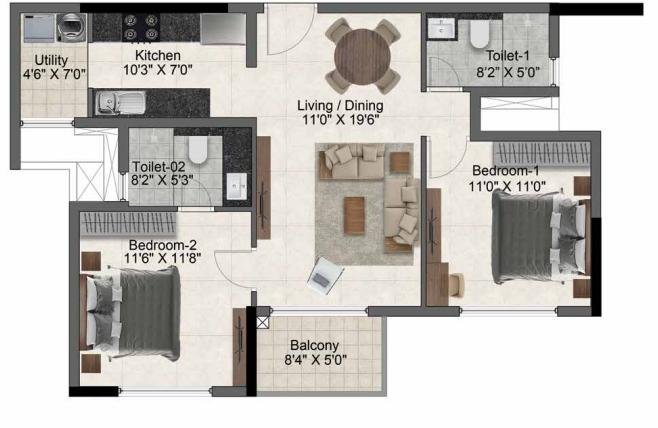Balcony: (256, 314, 381, 393)
Bed: (77, 270, 183, 358), (495, 192, 586, 280)
Bedroom: (77, 210, 248, 389), (430, 136, 591, 308)
Dining Room: (261, 17, 419, 143)
Dining table: (317, 18, 403, 94)
Kitchen: (85, 3, 244, 122)
Living Room: (257, 132, 426, 311)
Sofa: (317, 145, 384, 182), (386, 179, 420, 243)
Wardrobe: (79, 212, 175, 238), (491, 141, 589, 166)
attachBedroom: (125, 129, 228, 365)
commode: (469, 19, 491, 49), (189, 137, 208, 163)
door: (266, 9, 318, 56), (212, 249, 258, 291), (429, 137, 469, 180), (430, 56, 462, 89), (180, 175, 212, 208)
fridge: (201, 13, 245, 45)
kitchen-slab: (88, 87, 211, 117), (86, 12, 200, 43)
sink: (92, 89, 145, 114), (428, 17, 456, 38), (228, 173, 248, 201)
stove: (123, 12, 162, 43)
toilet: (426, 14, 552, 93), (127, 127, 249, 206)
tv: (427, 188, 443, 302), (258, 141, 271, 239), (232, 308, 246, 386)
utility: (17, 10, 90, 123)
washing-machine: (56, 13, 85, 42)
